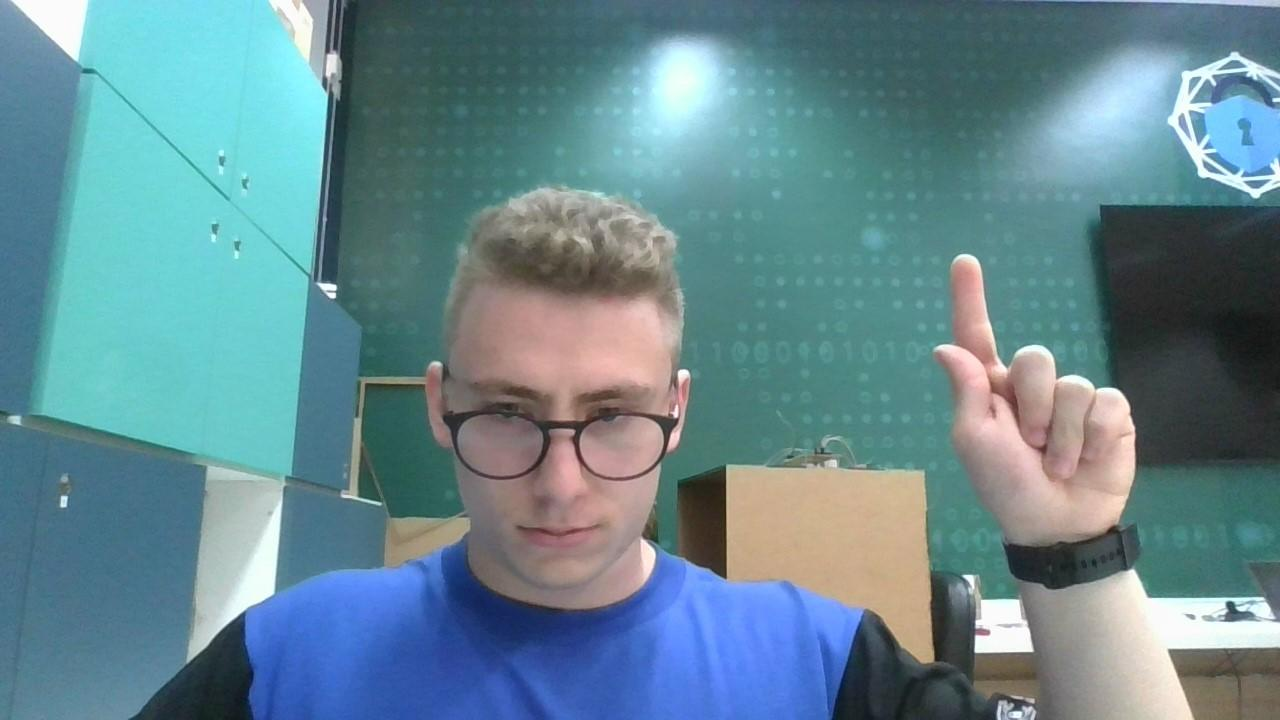G: (928, 252, 1140, 534)
